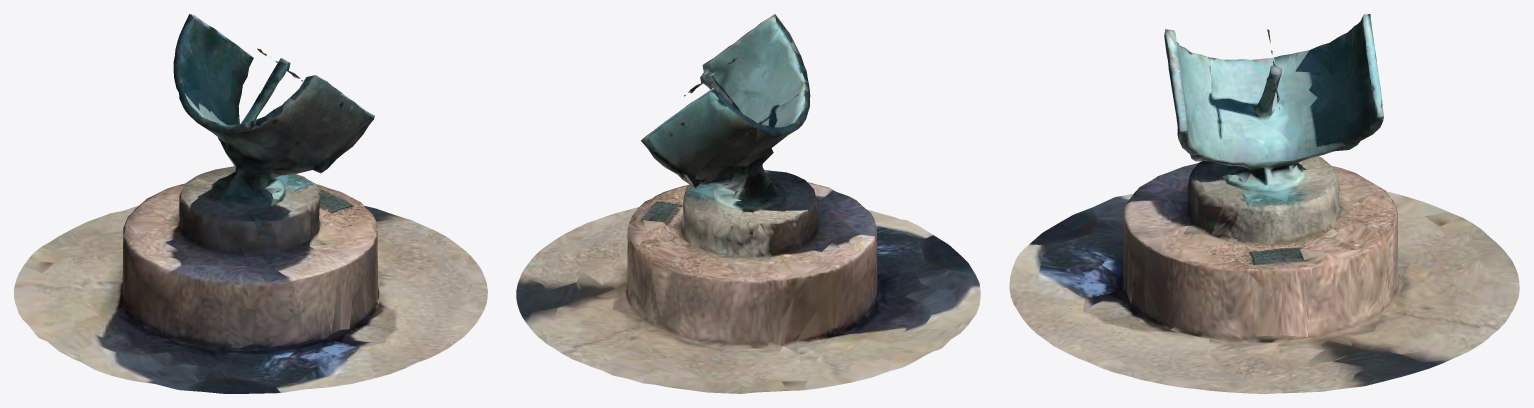
The model's file is SEAS Thing.gltf.
3 renders of one model, left to right at view 1: azimuth 30°, elevation 25°; view 2: azimuth 150°, elevation 25°; view 3: azimuth 270°, elevation 25°, orthographic. The views are drawn at different scales.
Parts seen in each view (by area): view 1: map_62b0ef13-ab91-41ad-8f9c-054ac7941bc9_densified_mesh_text; view 2: map_62b0ef13-ab91-41ad-8f9c-054ac7941bc9_densified_mesh_text; view 3: map_62b0ef13-ab91-41ad-8f9c-054ac7941bc9_densified_mesh_text.
Boxes of the visible parts, x1,y1,x2,y2 form: map_62b0ef13-ab91-41ad-8f9c-054ac7941bc9_densified_mesh_text: (14, 14, 487, 393); map_62b0ef13-ab91-41ad-8f9c-054ac7941bc9_densified_mesh_text: (516, 14, 980, 393); map_62b0ef13-ab91-41ad-8f9c-054ac7941bc9_densified_mesh_text: (1009, 14, 1519, 393).
Bounding box in the file's own units: 2 × 1.16 × 2.
1 material, 1 textured.
